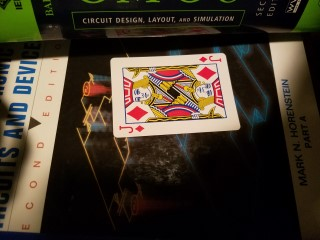JackOfDiamonds: (109, 52, 242, 139)
